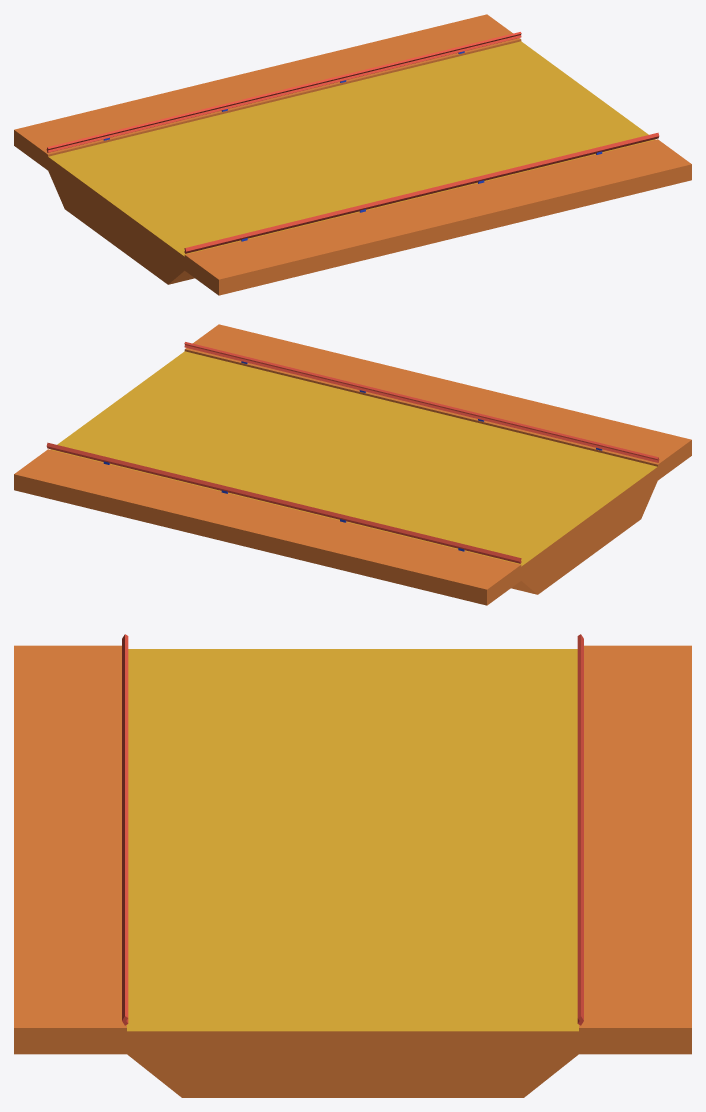
Rendered from BridgeNormalFBX.fbx.
3 views of the same model, one above another, from view 1: azimuth 30°, elevation 25°; view 2: azimuth 150°, elevation 25°; view 3: azimuth 270°, elevation 25° (orthographic). The views are drawn at different scales.
Visible parts, largest first — view 1: BridgeNormal; view 2: BridgeNormal; view 3: BridgeNormal.
Part boxes in pixels (x1,y1,x2,y2): BridgeNormal: (14,14,691,295); BridgeNormal: (14,324,691,605); BridgeNormal: (14,634,691,1097).
Bounding box in the file's own units: 100 × 9.99 × 75.
